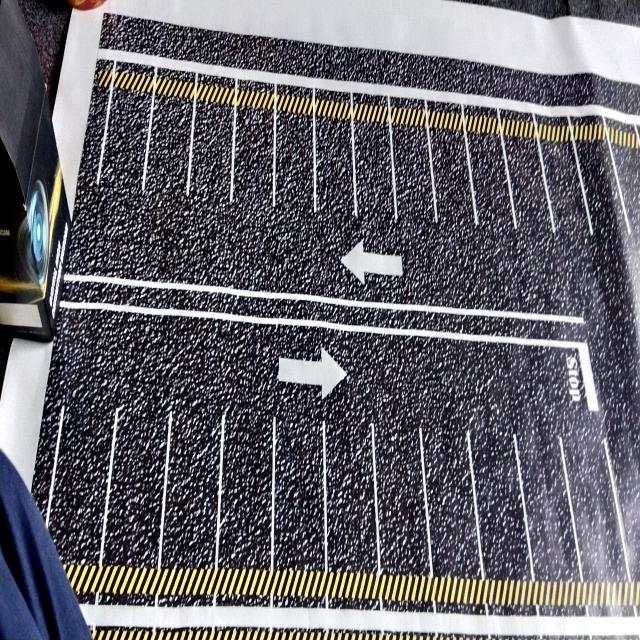others: (0, 0, 71, 342), (67, 0, 106, 10)
slots: (558, 413, 625, 580), (104, 392, 167, 567), (50, 400, 115, 563), (517, 418, 579, 580), (471, 420, 531, 579), (423, 418, 481, 577), (163, 411, 220, 567), (219, 410, 272, 569), (376, 421, 429, 575), (328, 411, 377, 571), (274, 415, 324, 569), (505, 135, 553, 254), (540, 140, 593, 247), (576, 140, 624, 251), (100, 90, 152, 190), (189, 97, 233, 206), (469, 134, 514, 234), (146, 96, 192, 191), (233, 104, 274, 205), (316, 114, 354, 222), (430, 131, 474, 224), (355, 118, 394, 218), (394, 126, 434, 220), (274, 111, 312, 208)
